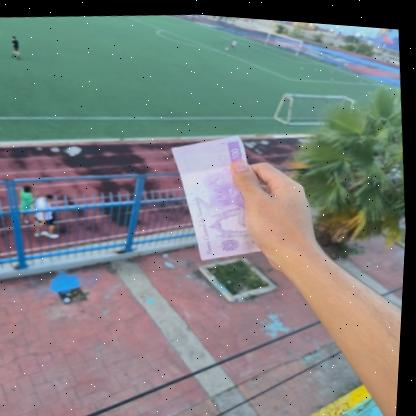one_hundred-back-vef: (166, 124, 269, 263)
